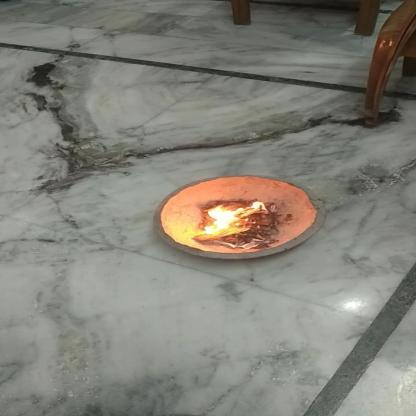fire: (198, 198, 271, 238)
